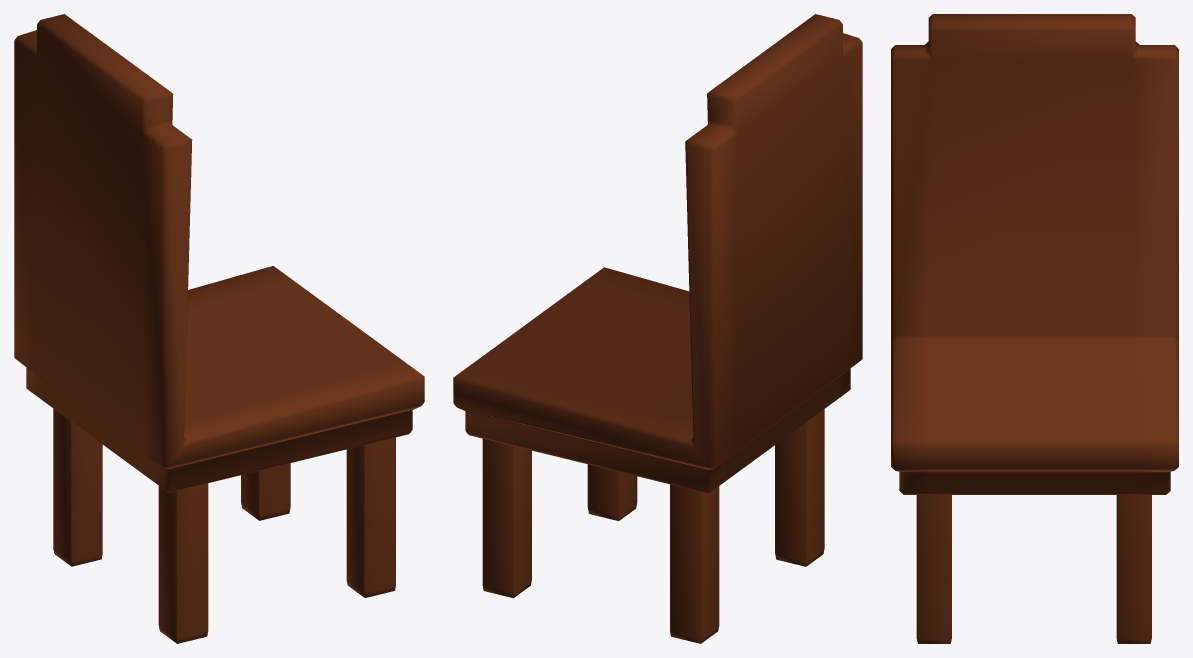
The model's file is Chair1.fbx.
The picture shows the model from 3 angles, left to right: view 1: azimuth 30°, elevation 25°; view 2: azimuth 150°, elevation 25°; view 3: azimuth 270°, elevation 25°; orthographic projection. The views are drawn at different scales.
Visible parts, largest first — view 1: Plane.003, Cube.016, Cube.014, Cube.017, Cube.015; view 2: Plane.003, Cube.017, Cube.015, Cube.016, Cube.014; view 3: Plane.003, Cube.015, Cube.014.
Boxes of the visible parts, x1,y1,x2,y2 form: Plane.003: (14,14,424,492); Cube.016: (158,483,208,643); Cube.014: (346,437,395,597); Cube.017: (53,408,102,566); Cube.015: (241,463,290,520); Plane.003: (453,14,862,493); Cube.017: (670,484,719,643); Cube.015: (482,439,531,598); Cube.016: (775,409,824,566); Cube.014: (587,464,637,520); Plane.003: (891,14,1178,494); Cube.015: (1116,495,1151,643); Cube.014: (916,495,951,643).
Bounding box in the file's own units: 150 × 299 × 150.
